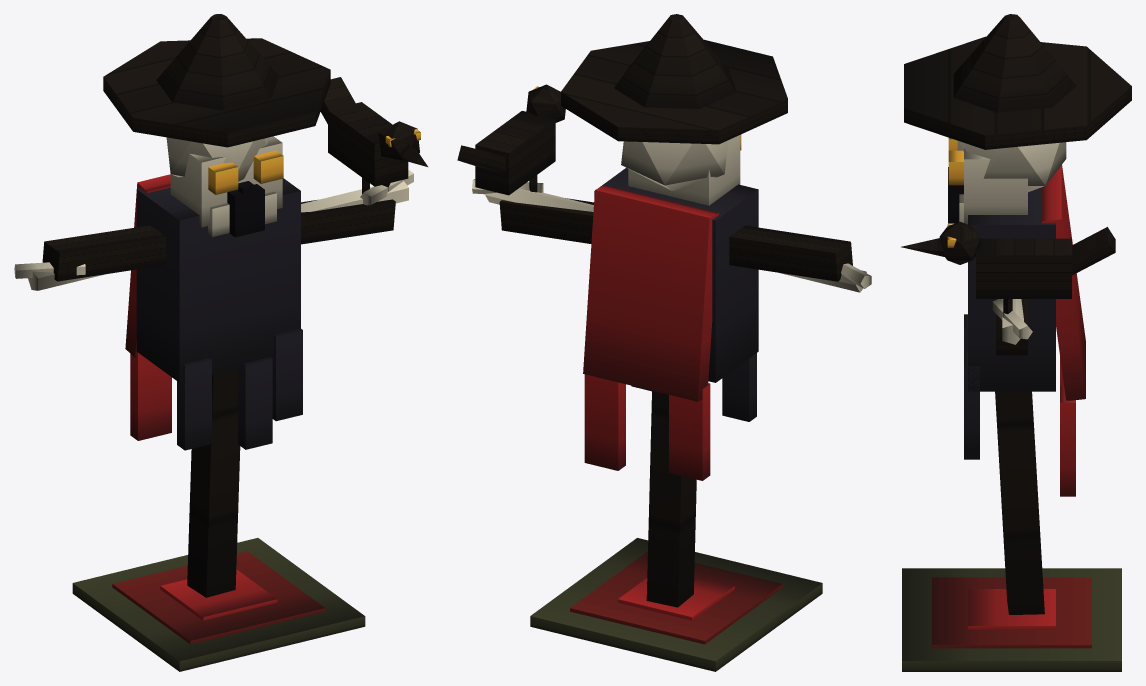
File: dark_scarecrow.obj
3 views of the same model, side by side, from view 1: azimuth 30°, elevation 25°; view 2: azimuth 150°, elevation 25°; view 3: azimuth 270°, elevation 25° (orthographic). The views are drawn at different scales.
Parts seen in each view (by area): view 1: dark_scarecrow; view 2: dark_scarecrow; view 3: dark_scarecrow.
Boxes of the visible parts, left/top/right/bottom form: dark_scarecrow: left=14, top=14, right=427, bottom=671; dark_scarecrow: left=457, top=14, right=871, bottom=671; dark_scarecrow: left=901, top=14, right=1131, bottom=671.
Bounding box in the file's own units: 1.18 × 1.71 × 0.58.
Materials: 1 (1 with a texture image).
